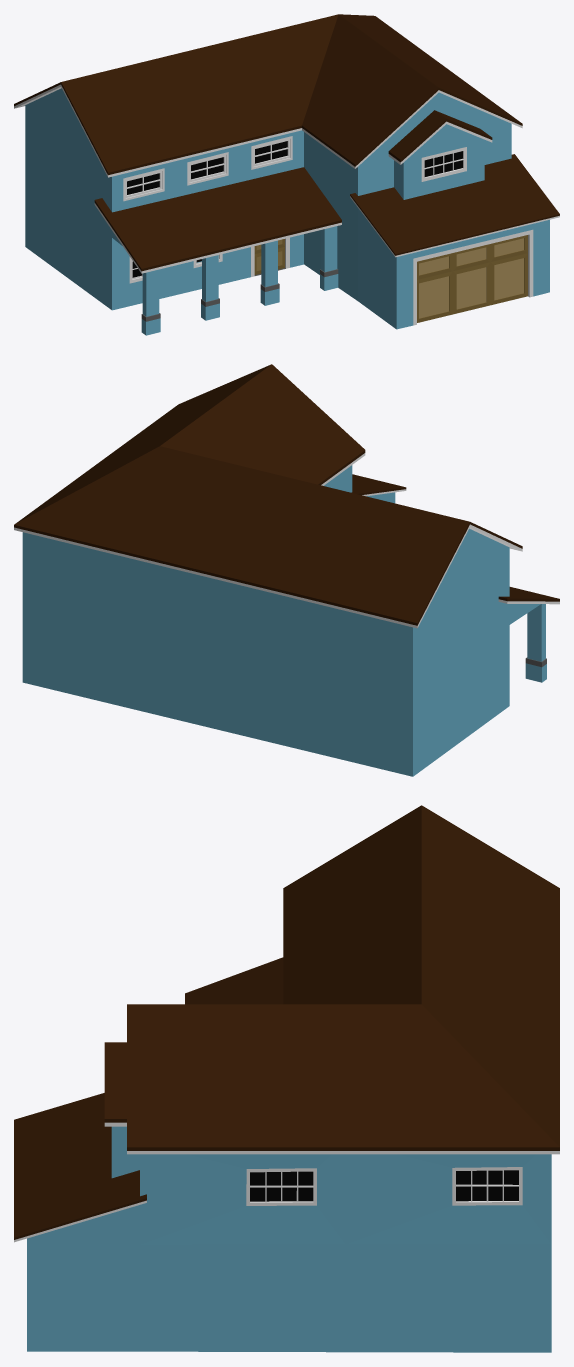
File: House-26.fbx
3 renders of one model, top to bottom at view 1: azimuth 30°, elevation 25°; view 2: azimuth 150°, elevation 25°; view 3: azimuth 270°, elevation 25°, orthographic. The views are drawn at different scales.
Visible parts, largest first — view 1: House-26; view 2: House-26; view 3: House-26.
Part boxes in pixels (x1,y1,x2,y2): House-26: (14,14,559,335); House-26: (14,364,559,776); House-26: (14,805,559,1352).
Size of what is drawn, in the model's own units: 14 by 7.38 by 12.47.
